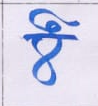ai_matra: (28, 6, 79, 33)
